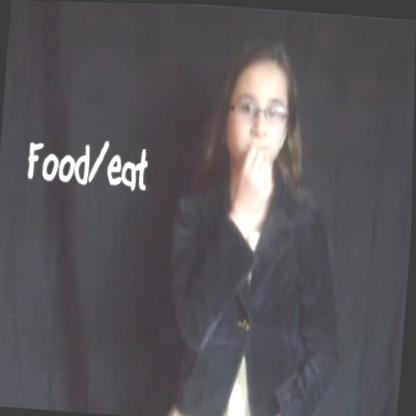Food: (205, 30, 333, 255)
